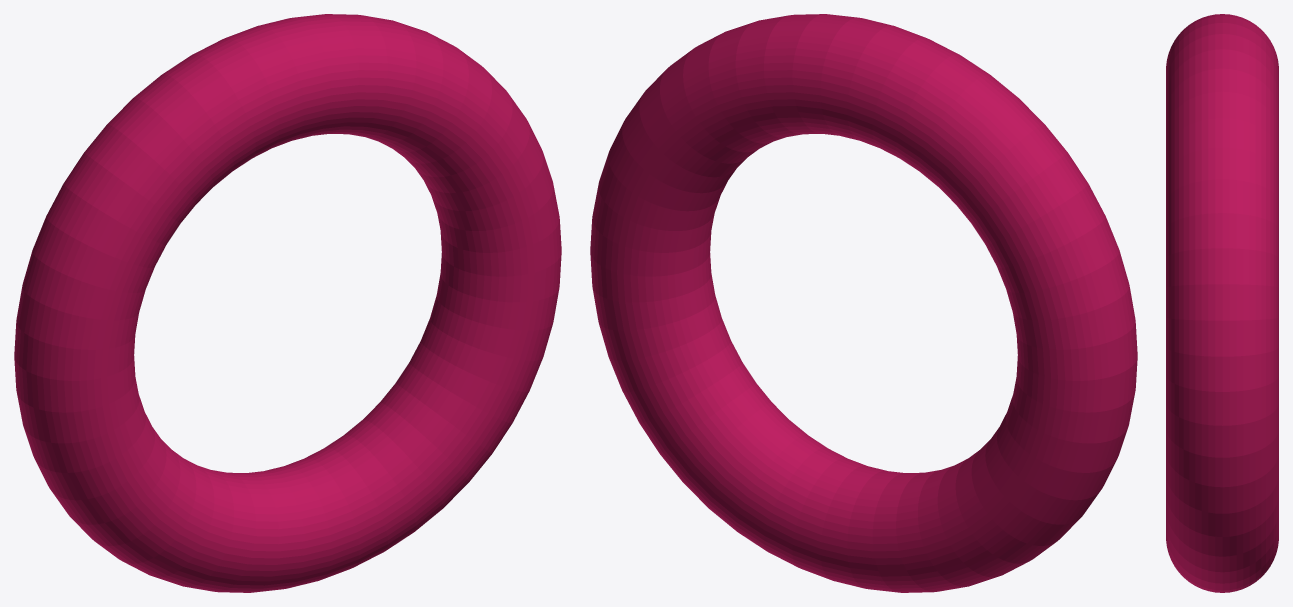
3 views of the same model, side by side, from view 1: azimuth 30°, elevation 25°; view 2: azimuth 150°, elevation 25°; view 3: azimuth 270°, elevation 25° (orthographic). The views are drawn at different scales.
Parts seen in each view (by area): view 1: world; view 2: world; view 3: world.
Part boxes in pixels (x1,y1,x2,y2): world: (14,14,561,592); world: (590,14,1137,592); world: (1166,14,1278,592).
Size of the model in its own units: 34.8 by 34.73 by 6.79.
